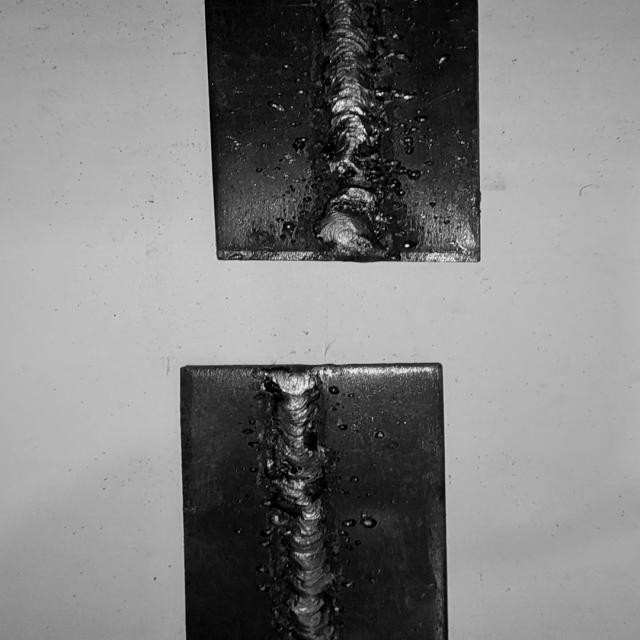Bad Weld: (317, 0, 393, 255)
Defect: (304, 143, 412, 205)
Good Weld: (268, 370, 332, 640)
